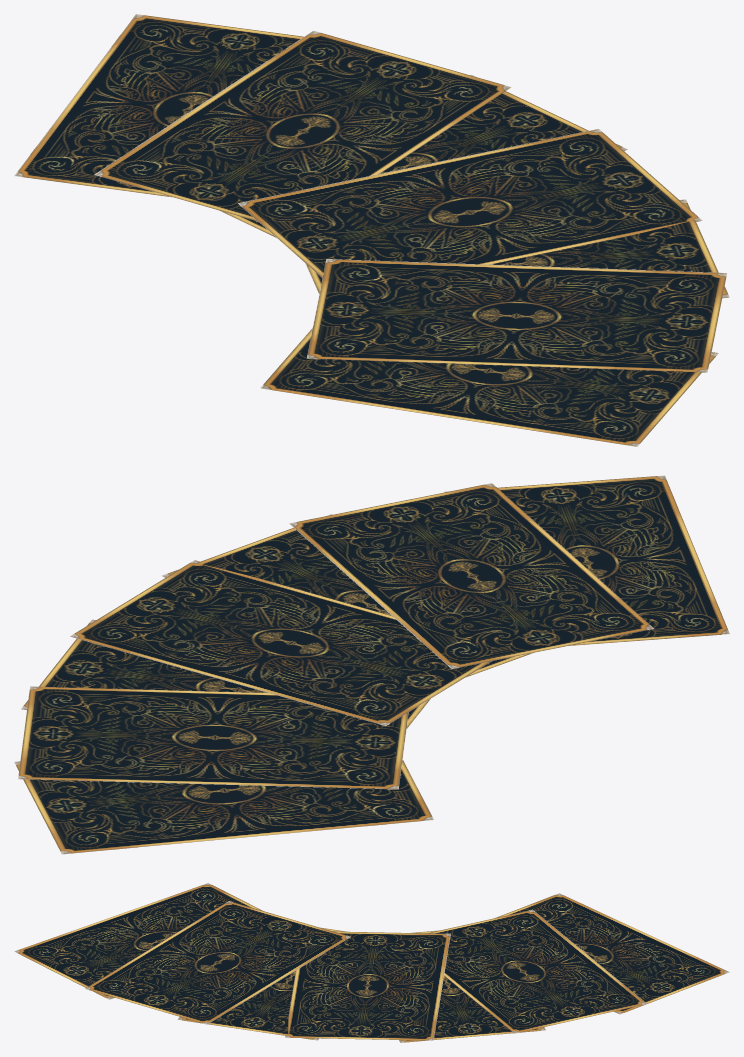
The model's file is Taro.fbx.
The picture shows the model from 3 angles, top to bottom: view 1: azimuth 30°, elevation 25°; view 2: azimuth 150°, elevation 25°; view 3: azimuth 270°, elevation 25°; orthographic projection. The views are drawn at different scales.
Visible parts, largest first — view 1: TaroCardsUsable; view 2: TaroCardsUsable; view 3: TaroCardsUsable.
Boxes of the visible parts, x1=… form: TaroCardsUsable: x1=14, y1=14, x2=729, y2=446; TaroCardsUsable: x1=14, y1=475, x2=729, y2=854; TaroCardsUsable: x1=14, y1=883, x2=729, y2=1042.
Size of the model in its own units: 254 by 1.96 by 481.
